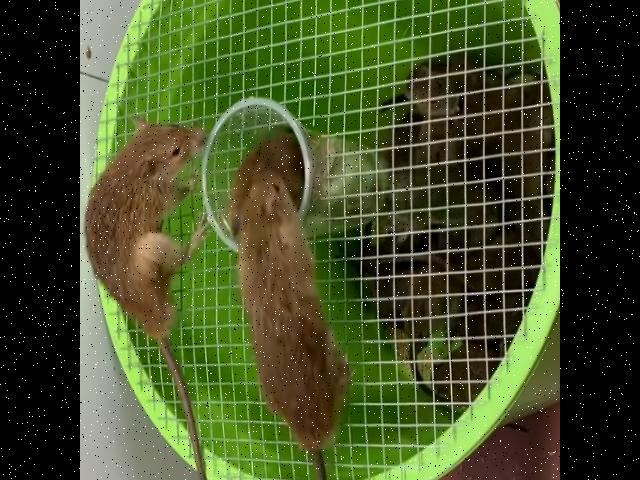Tikus: (82, 112, 210, 480), (235, 165, 348, 480)
